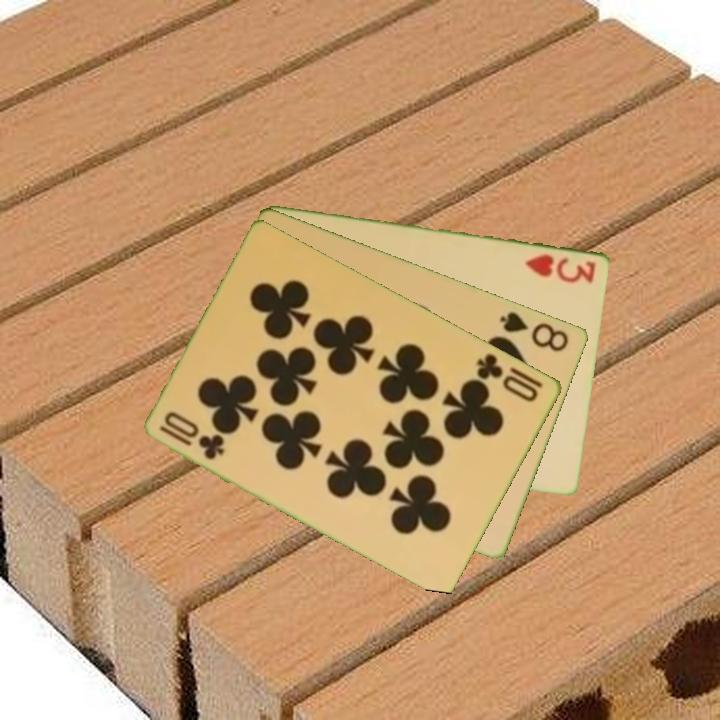10c: (473, 349, 542, 405), (155, 421, 228, 463)
3h: (522, 250, 599, 286)
8s: (496, 308, 572, 355)
